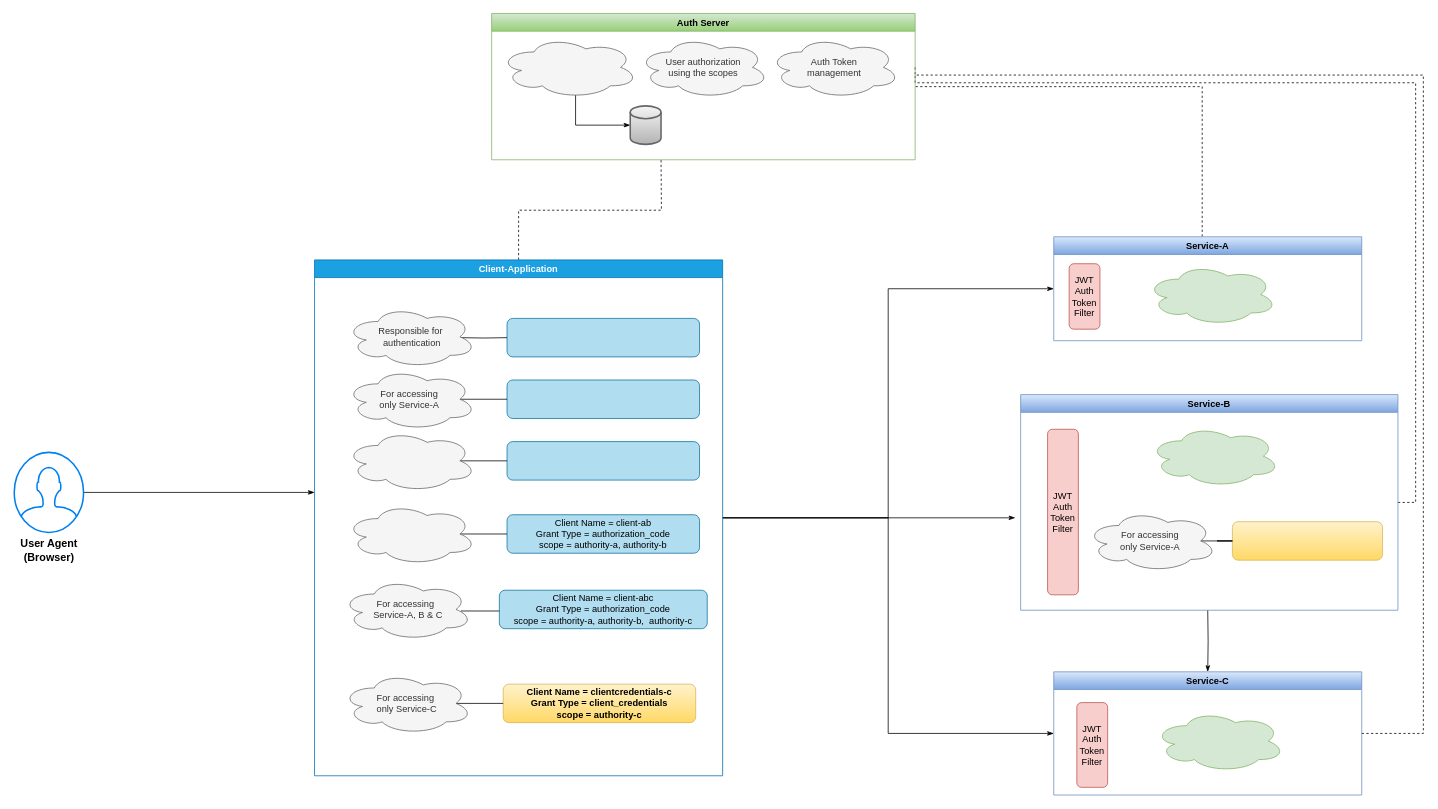
The diagram is 1438 pixels wide and 809 high, and some of its shapes have lost their labels. The box of each missing label's shape, as (x1, y1, x2, y2) in pixels:
Client Name = client-a Grant Type = authorization_code scope = authority-a: (506, 379, 700, 418)
Client Name = client-b Grant Type = authorization_code scope = authority-b: (506, 441, 700, 480)
Client Name = client-c Grant Type = client_credentials scope = authority-c: (1232, 521, 1383, 560)
Client Name = login-client Grant Type = authorization_code scope = openid: (506, 318, 700, 357)
For accessing both Service-A & B: (345, 502, 476, 565)
For accessing only Service-B: (345, 429, 476, 492)
Service with scope 'authority-a': (1145, 263, 1277, 325)
Service with scope 'authority-b': (1148, 425, 1280, 487)
Service with scope 'authority-c': (1153, 710, 1285, 772)
User authentication using database: (499, 36, 638, 98)
